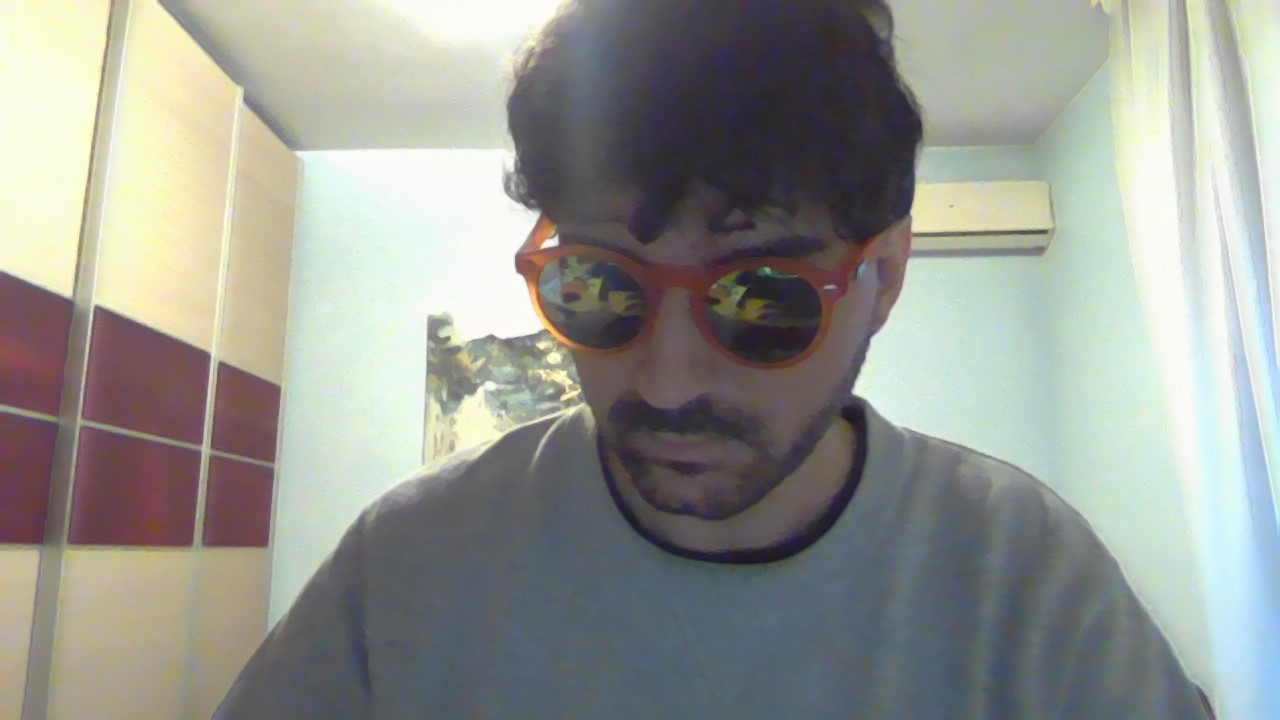Glasses: (502, 208, 932, 369)
